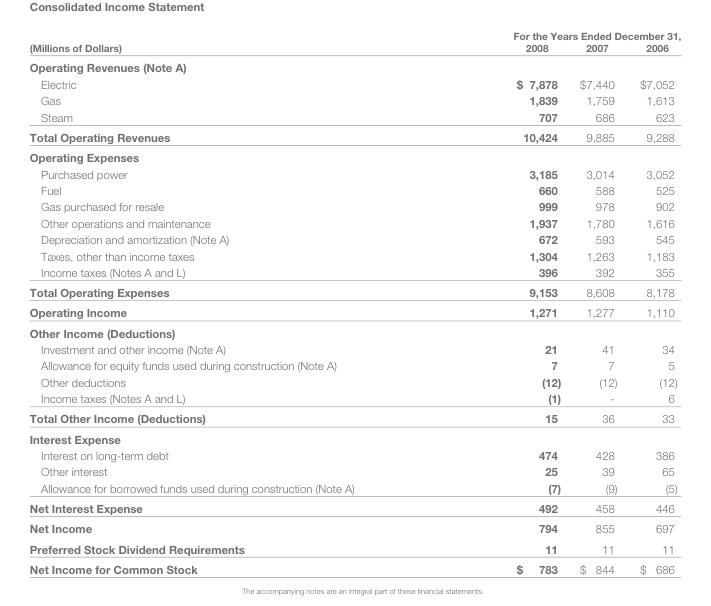table: (28, 28, 680, 575)
table column: (28, 28, 433, 575), (433, 28, 569, 575), (569, 28, 627, 575), (627, 28, 680, 575)
table column header: (28, 28, 680, 56)
table projected row header: (28, 56, 680, 75), (28, 146, 680, 165), (28, 322, 680, 340), (28, 428, 680, 446)
table row: (28, 301, 680, 322), (28, 517, 680, 538), (28, 126, 680, 146), (28, 281, 680, 301), (28, 408, 680, 428), (28, 497, 680, 517), (28, 538, 680, 558), (28, 56, 680, 75), (28, 146, 680, 165), (28, 389, 680, 408), (28, 108, 680, 126), (28, 263, 680, 281), (28, 322, 680, 340), (28, 428, 680, 446), (28, 479, 680, 497), (28, 91, 680, 108), (28, 197, 680, 214), (28, 230, 680, 247), (28, 356, 680, 373), (28, 462, 680, 479), (28, 558, 680, 575), (28, 75, 680, 91), (28, 165, 680, 181), (28, 181, 680, 197), (28, 214, 680, 230), (28, 247, 680, 263), (28, 340, 680, 356), (28, 373, 680, 389), (28, 446, 680, 462), (28, 41, 680, 56), (28, 28, 680, 41)
table spanning cell: (28, 28, 433, 56), (433, 28, 680, 41)
